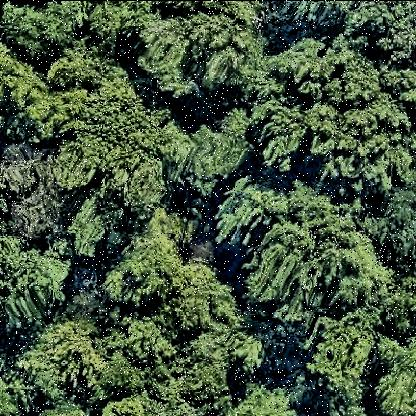tree-top: (243, 186, 374, 315), (57, 88, 184, 199), (139, 2, 261, 102), (310, 96, 416, 190), (104, 205, 192, 299), (16, 313, 104, 402), (307, 313, 381, 401), (1, 235, 71, 328), (2, 138, 58, 246), (180, 106, 246, 190), (13, 55, 83, 129), (4, 2, 78, 64), (353, 1, 416, 65), (370, 332, 416, 416), (220, 371, 298, 416), (81, 1, 143, 57), (378, 188, 416, 274), (88, 392, 155, 416)
